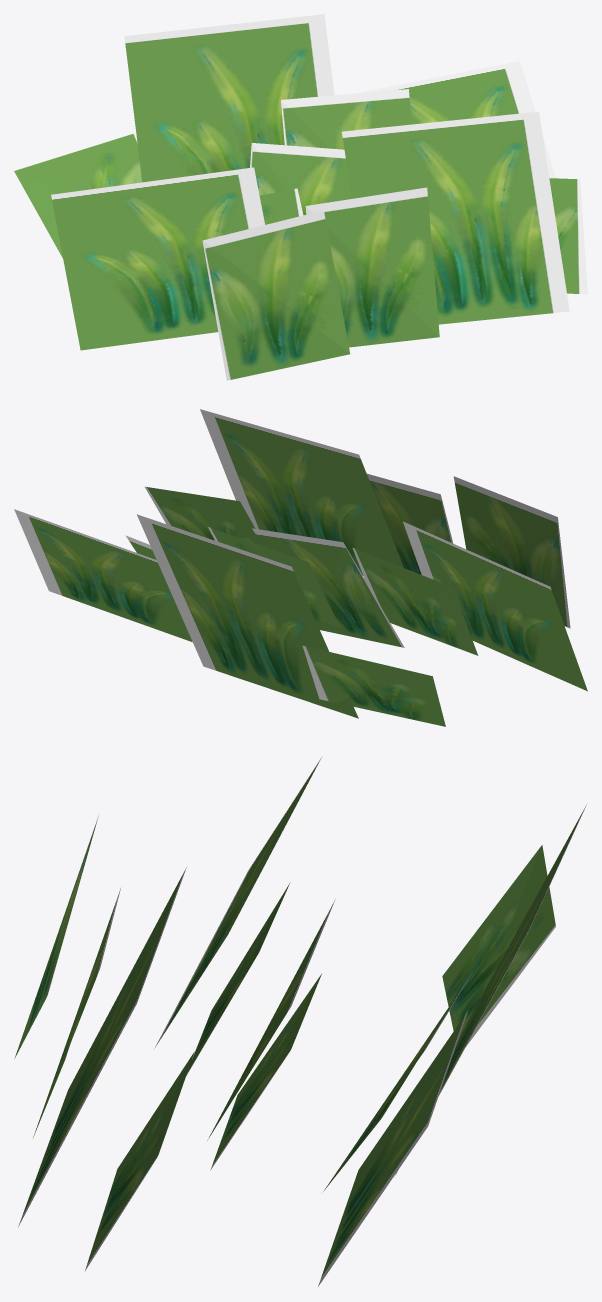
File: map_7005_zu_cao01.FBX
The picture shows the model from 3 angles, top to bottom: view 1: azimuth 30°, elevation 25°; view 2: azimuth 150°, elevation 25°; view 3: azimuth 270°, elevation 25°; orthographic projection. The views are drawn at different scales.
Parts seen in each view (by area): view 1: map_7005_zu_cao01; view 2: map_7005_zu_cao01; view 3: map_7005_zu_cao01.
Boxes of the visible parts, box(x1,y1,x2,y2) form: map_7005_zu_cao01: box(14, 14, 587, 380); map_7005_zu_cao01: box(14, 409, 587, 726); map_7005_zu_cao01: box(14, 757, 587, 1286).
Bounding box in the file's own units: 3.18 × 1.16 × 2.19.
1 material, 1 textured.
